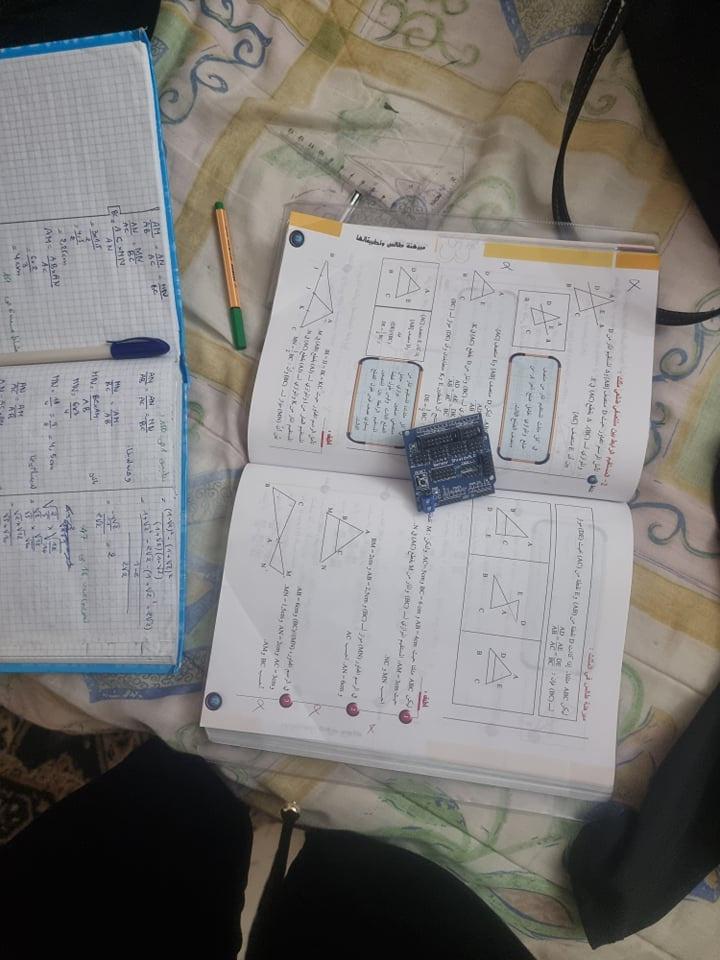5V EXPANSION: (403, 412, 497, 516)
